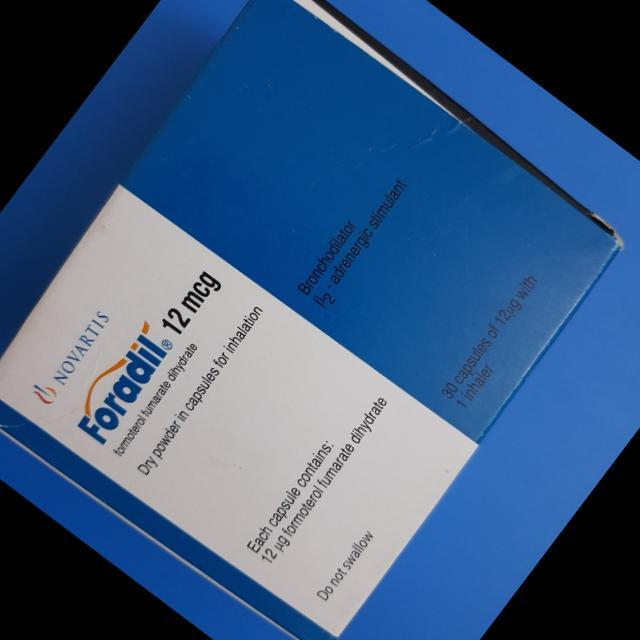Medicine Name: (64, 325, 181, 457)
